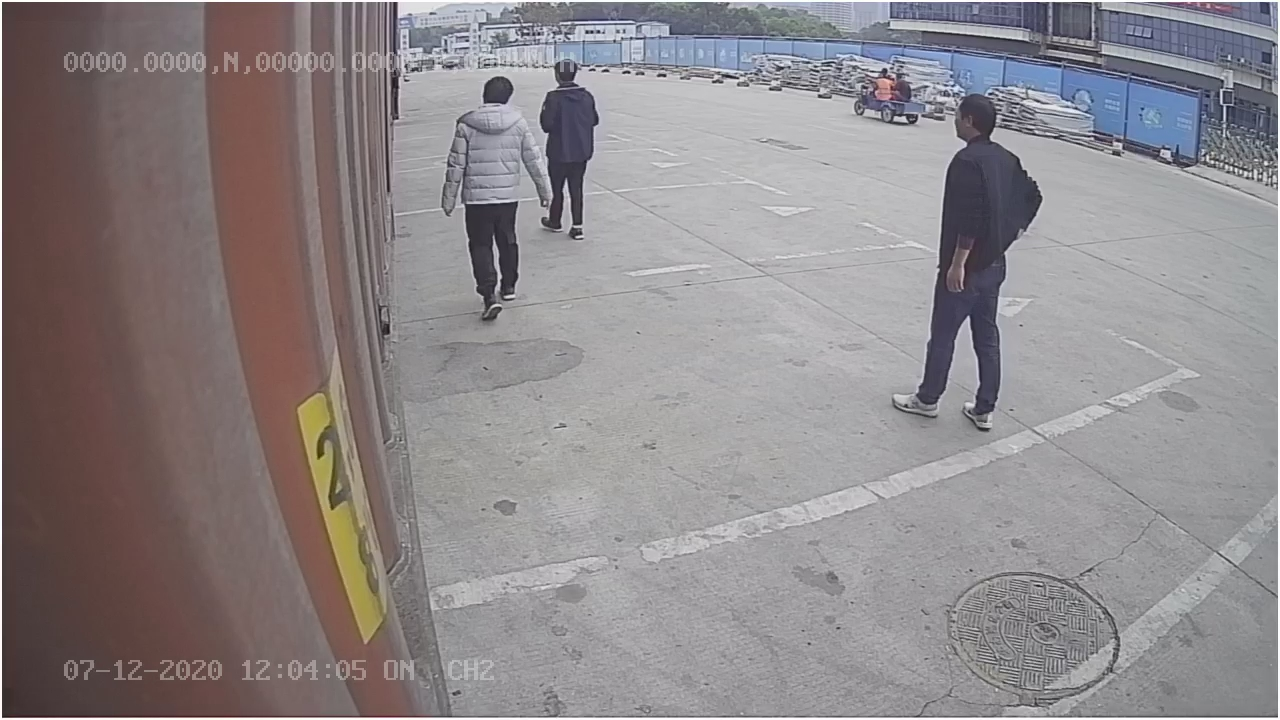person: (889, 90, 1045, 429)
